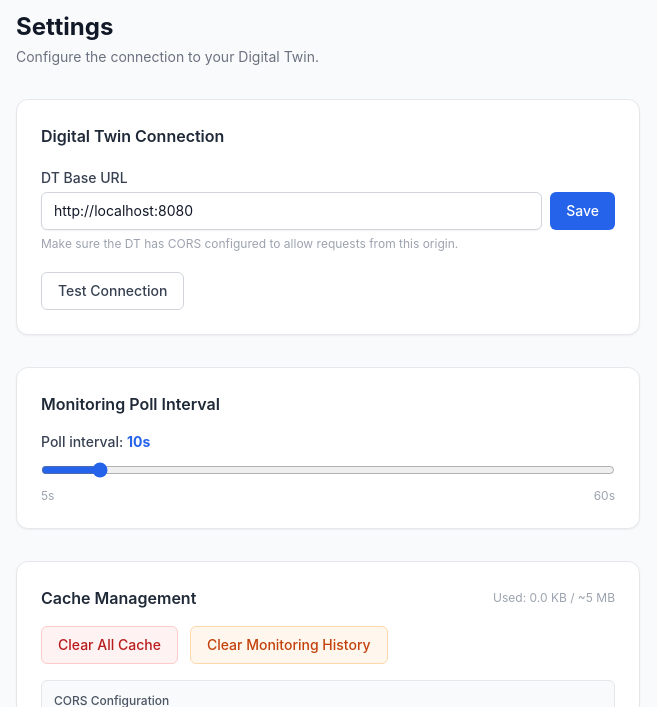
Test: SettingsPage › shows success message after successful connection test
Click the button "Test Connection" at (113, 291), box [41,272,184,310]
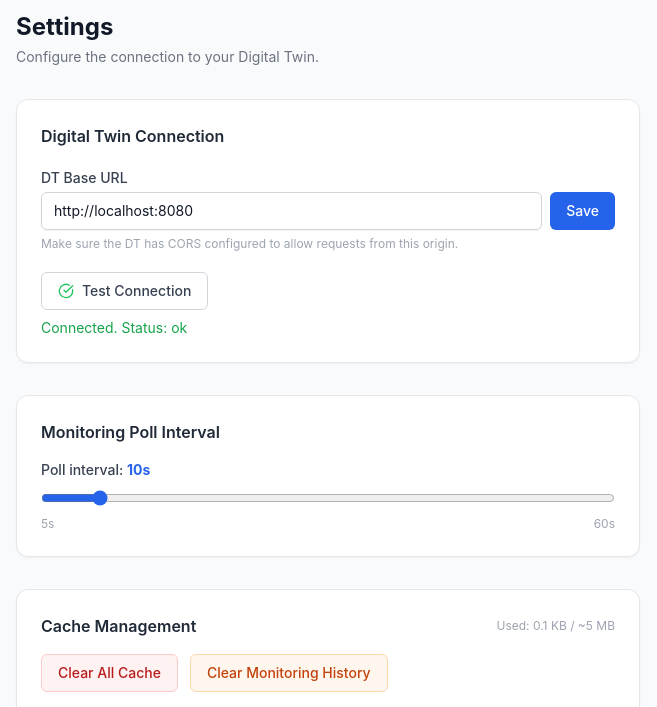
Now the text "Connected. Status: ok" is shown, box [41,319,187,336]
